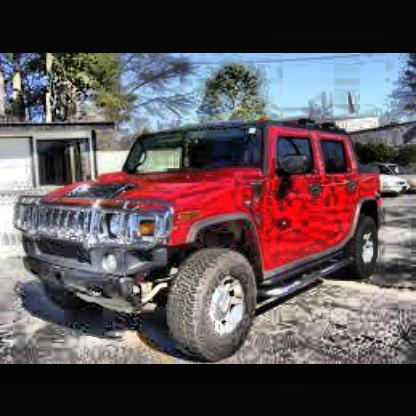HUMMER H2 SUT Crew Cab 2009: (17, 124, 384, 363)
